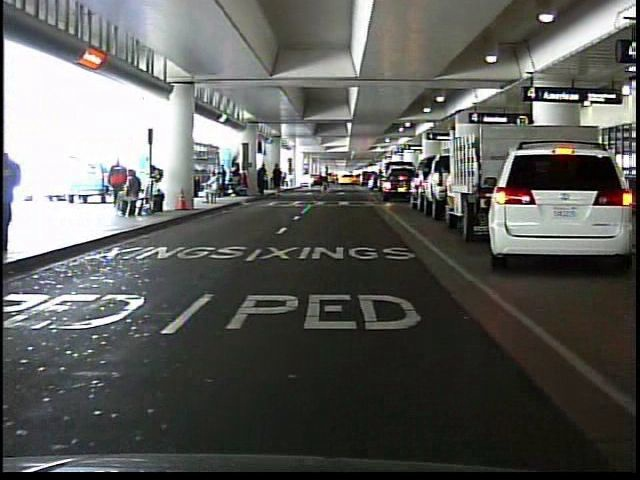person: (3, 142, 25, 256), (202, 171, 225, 207), (315, 164, 334, 195)
